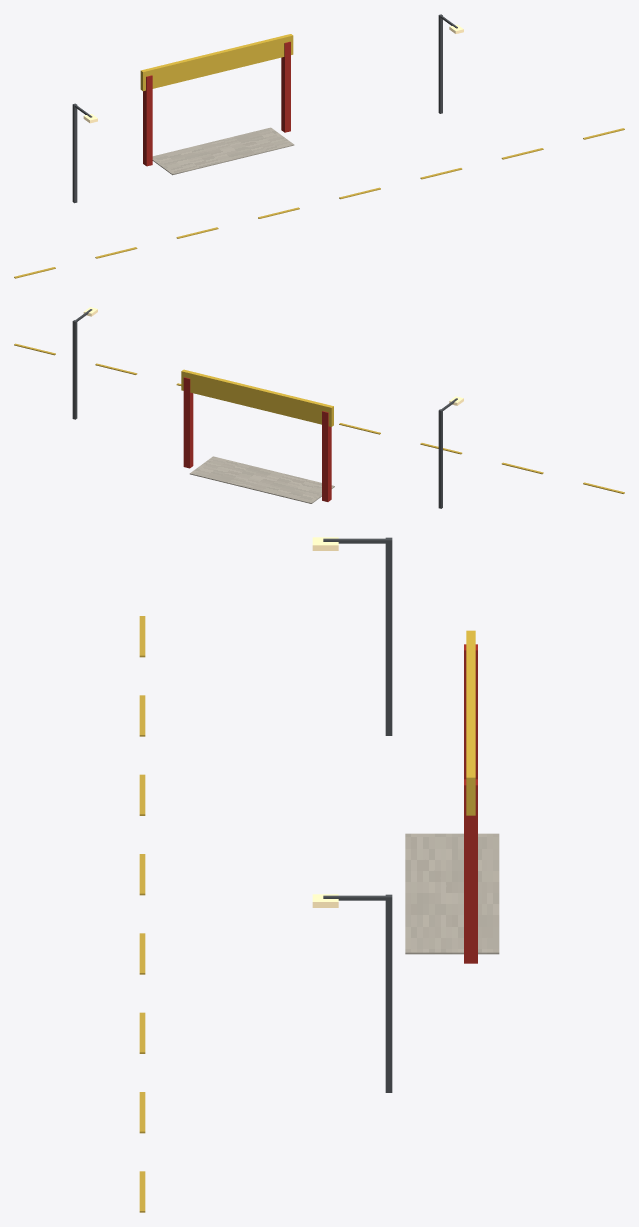
Rendered from structure.glb.
3 views of the same model, one above another, from view 1: azimuth 30°, elevation 25°; view 2: azimuth 150°, elevation 25°; view 3: azimuth 270°, elevation 25° (orthographic). The views are drawn at different scales.
Visible parts, largest first — view 1: Box17, Box18, Box15, Box16, Box9, Box12; view 2: Box17, Box18, Box16, Box15, Box12, Box9; view 3: Box18, Box16, Box17, Box9, Box12.
Part boxes in pixels (left/top/right/bottom): Box17: left=140, top=34, right=293, bottom=91; Box18: left=152, top=127, right=294, bottom=175; Box15: left=143, top=75, right=152, bottom=166; Box16: left=281, top=41, right=290, bottom=132; Box9: left=72, top=103, right=77, bottom=203; Box12: left=438, top=14, right=442, bottom=113; Box17: left=181, top=369, right=333, bottom=426; Box18: left=189, top=456, right=334, bottom=503; Box16: left=183, top=377, right=193, bottom=468; Box15: left=322, top=411, right=331, bottom=501; Box12: left=72, top=320, right=77, bottom=419; Box9: left=438, top=409, right=442, bottom=508; Box18: left=405, top=833, right=499, bottom=954; Box16: left=464, top=779, right=477, bottom=963; Box17: left=466, top=630, right=475, bottom=815; Box9: left=385, top=537, right=392, bottom=735; Box12: left=385, top=894, right=392, bottom=1092.
Bounding box in the file's own units: 30 × 4.65 × 7.66.
Materials: 6 (1 with a texture image).
